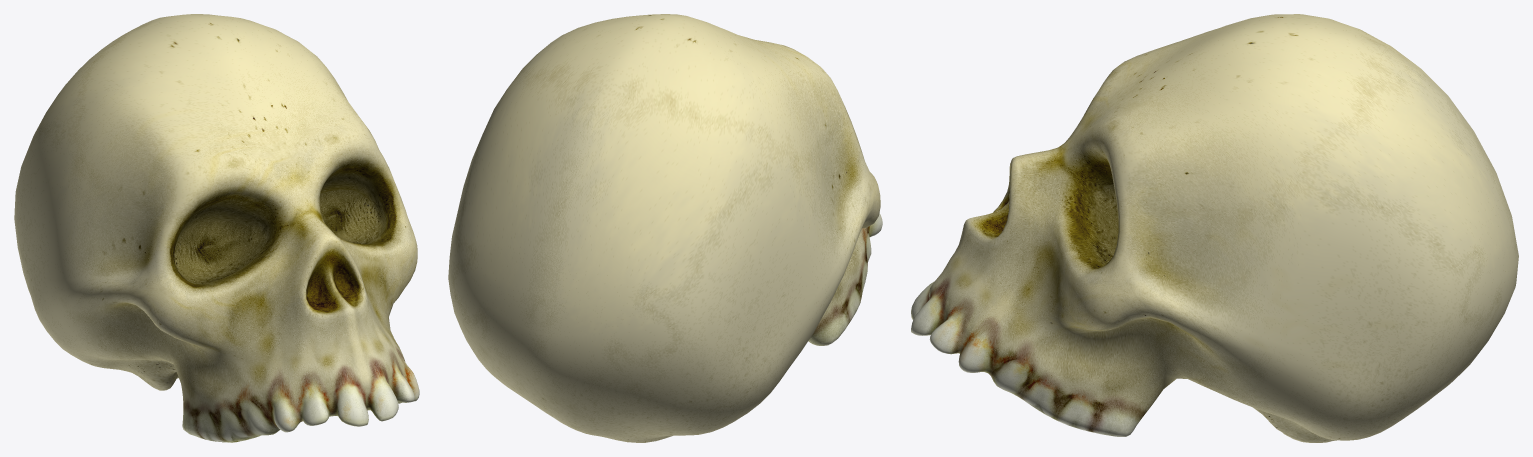
File: craneo.v2.packed.fbx
The picture shows the model from 3 angles, left to right: view 1: azimuth 30°, elevation 25°; view 2: azimuth 150°, elevation 25°; view 3: azimuth 270°, elevation 25°; orthographic projection. The views are drawn at different scales.
Parts seen in each view (by area): view 1: Craneo; view 2: Craneo; view 3: Craneo.
Part boxes in pixels (x1,y1,x2,y2): Craneo: [14, 14, 419, 442]; Craneo: [448, 14, 882, 442]; Craneo: [911, 14, 1518, 442].
Bounding box in the file's own units: 51.65 × 59.02 × 80.97.
